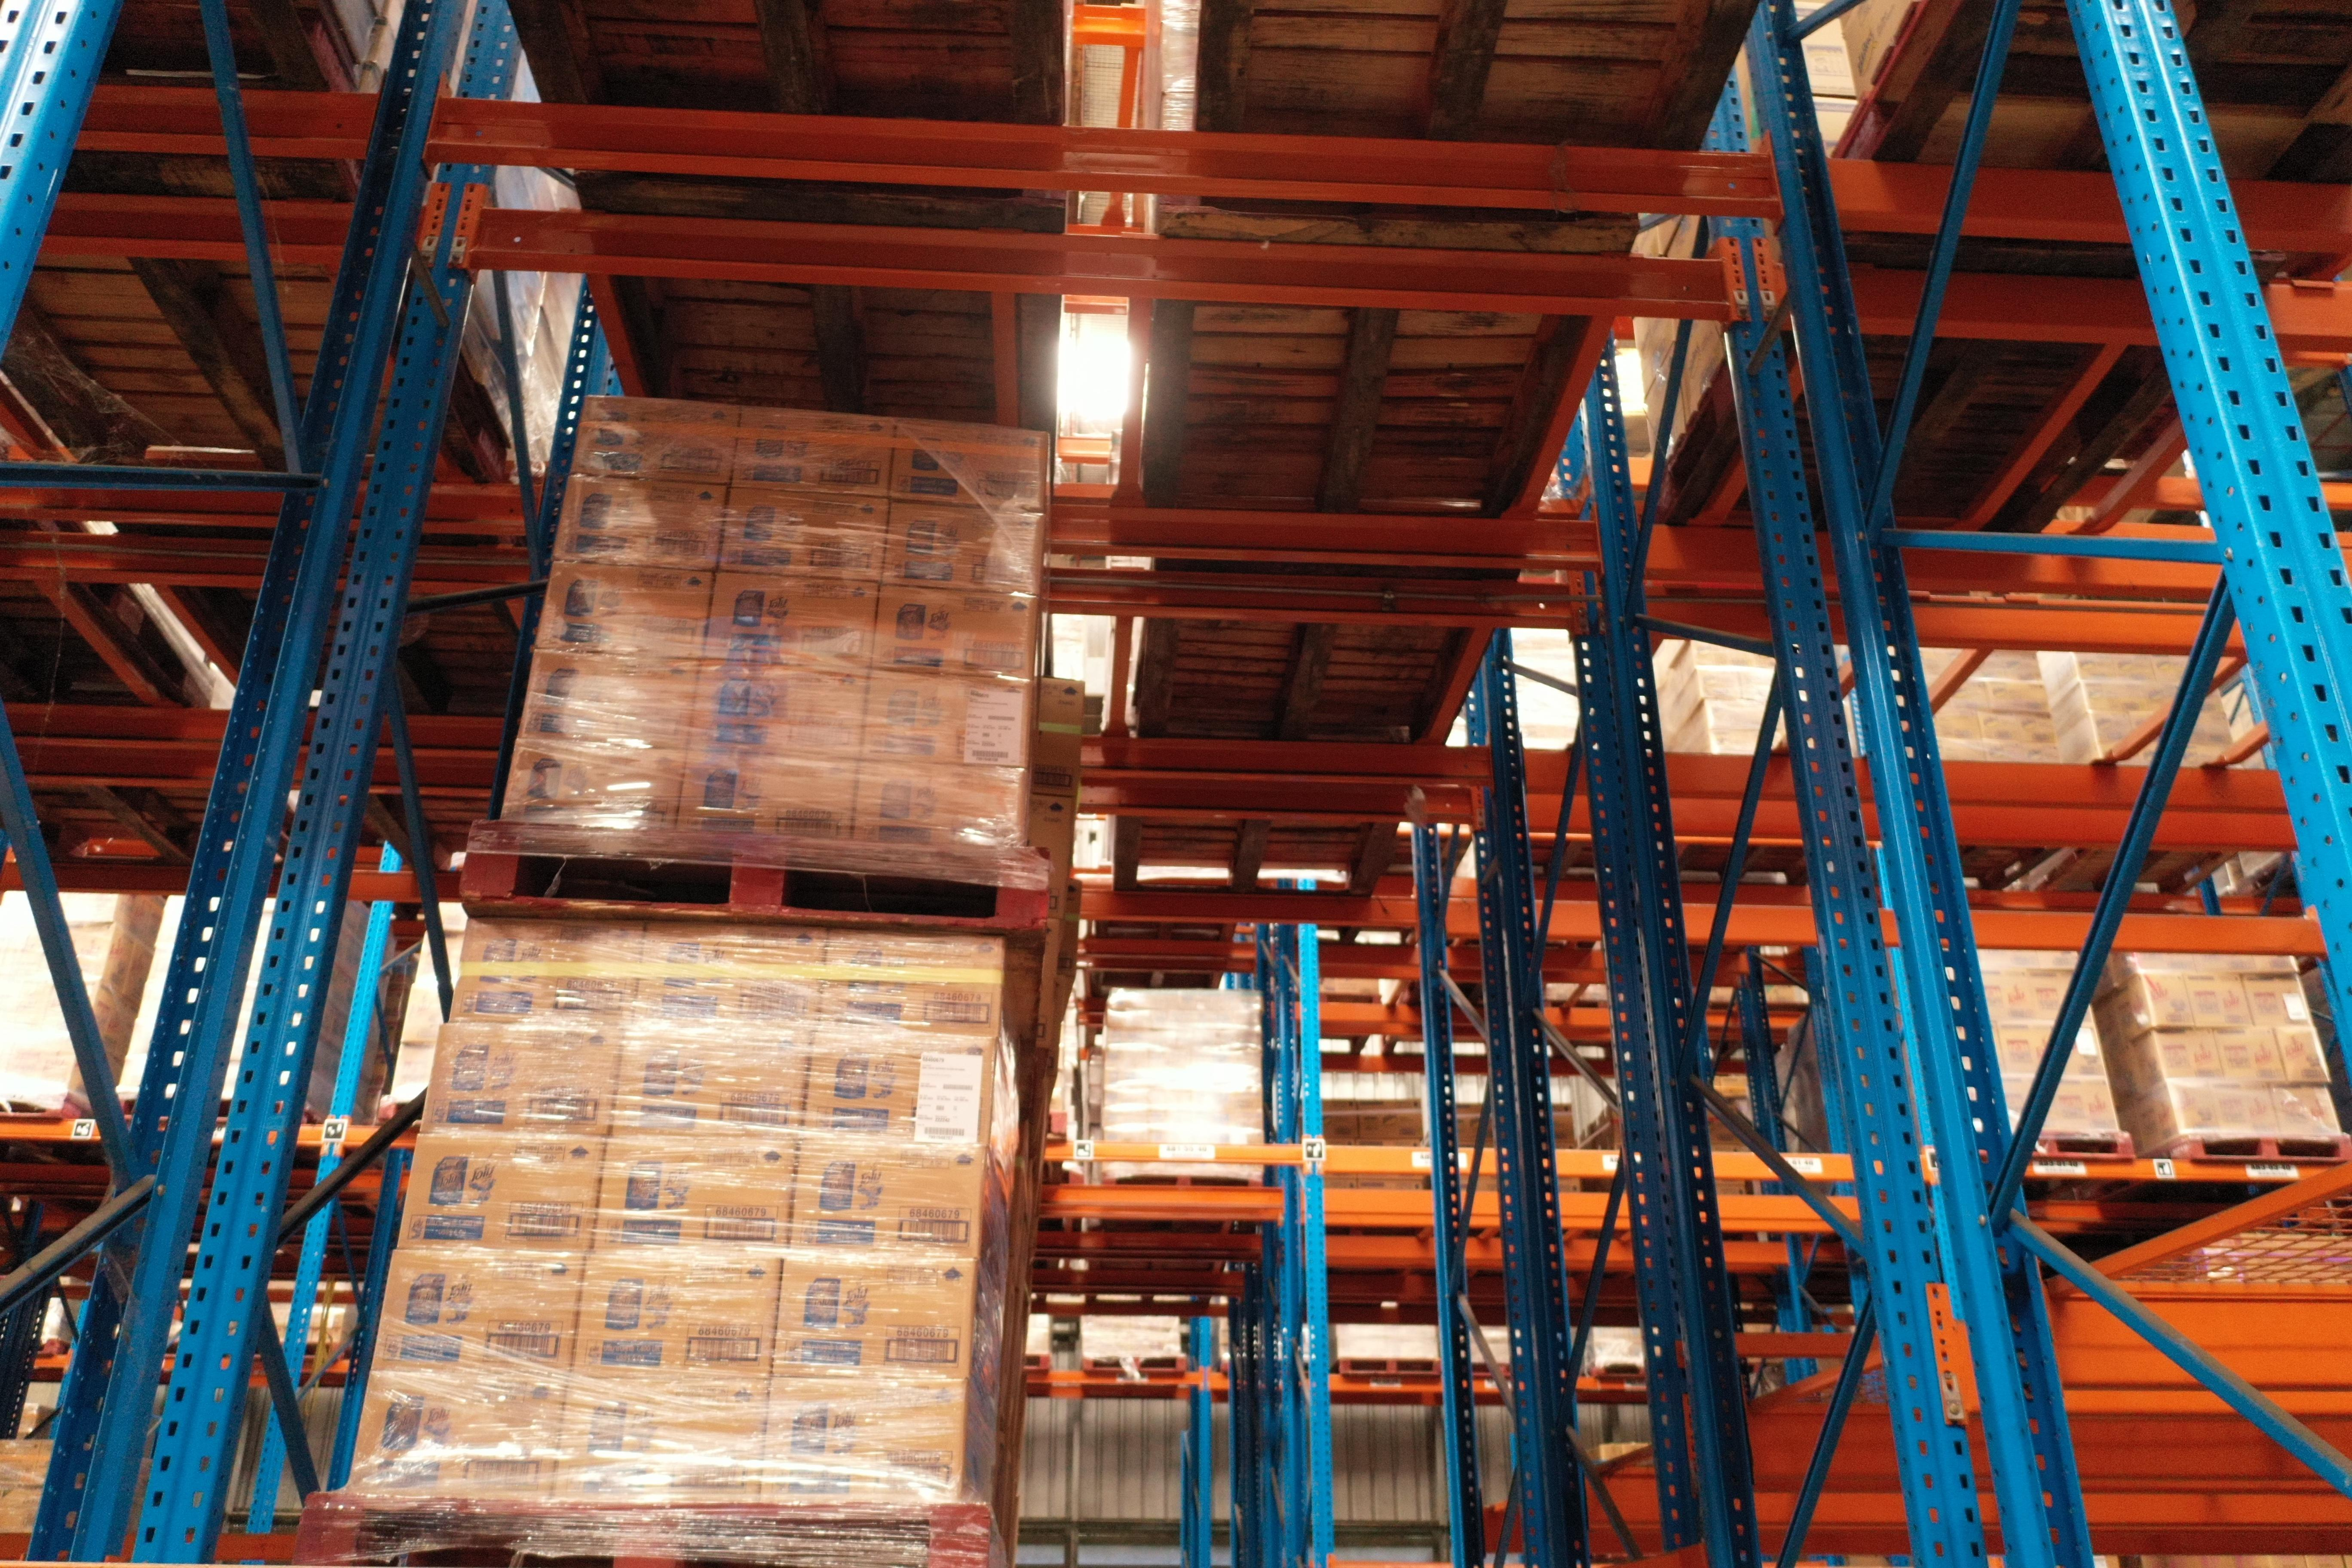box: (346, 1372, 569, 1505), (553, 1374, 770, 1505), (770, 1249, 976, 1386), (371, 1246, 588, 1375), (567, 1249, 782, 1377), (756, 1375, 964, 1507), (397, 1129, 604, 1256), (784, 1134, 989, 1262), (593, 1130, 800, 1255), (798, 1029, 997, 1150), (425, 1017, 621, 1139), (609, 1025, 814, 1139), (817, 926, 1006, 1039), (630, 924, 829, 1031), (450, 920, 647, 1027), (518, 653, 705, 756), (686, 660, 873, 763), (493, 737, 689, 831), (679, 747, 864, 845), (703, 569, 882, 670), (537, 562, 716, 661), (854, 756, 1025, 854), (857, 668, 1029, 766), (719, 486, 892, 583), (556, 474, 728, 569), (870, 583, 1034, 681), (882, 499, 1045, 595), (733, 406, 896, 502), (892, 416, 1048, 514), (574, 395, 738, 483)
